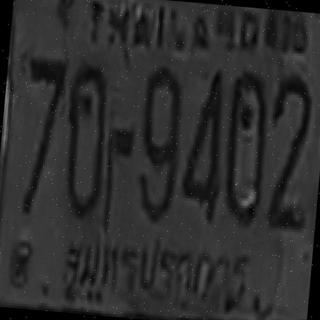N00: (219, 70, 272, 224), (138, 64, 184, 165)
N02: (265, 72, 313, 197)
N04: (178, 67, 228, 221)
N07: (23, 57, 67, 152)
N09: (132, 70, 184, 222), (132, 86, 183, 221)
P57: (55, 225, 255, 312)
